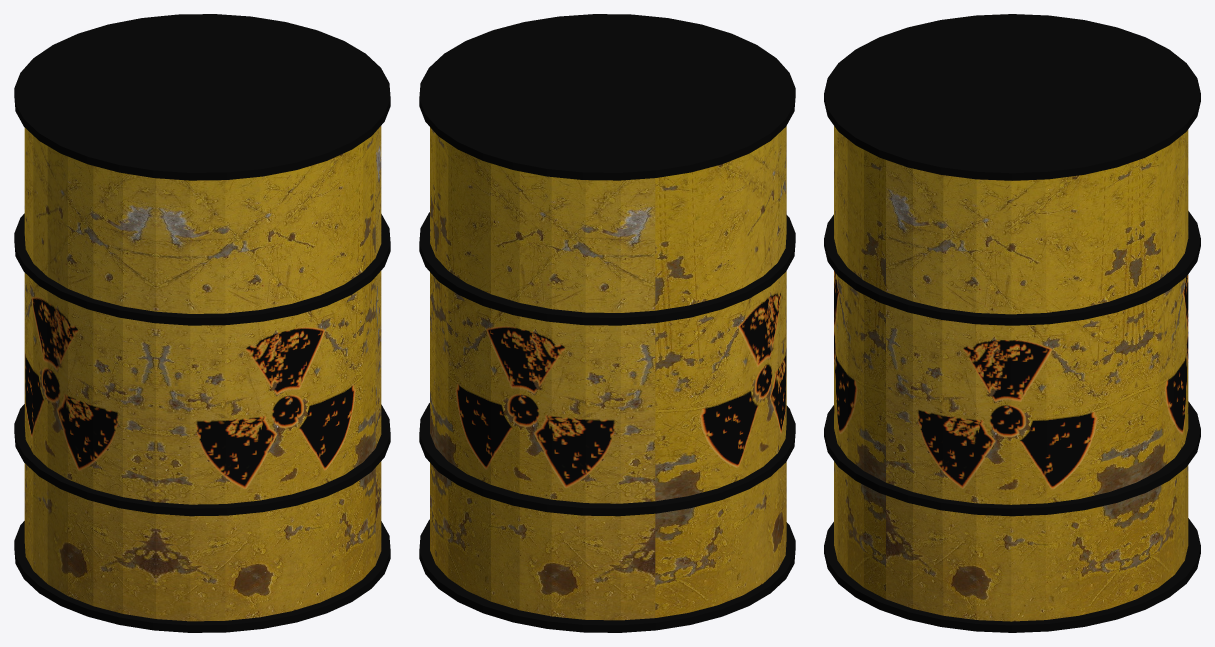
Rendered from Barrel.fbx.
3 views of the same model, side by side, from view 1: azimuth 30°, elevation 25°; view 2: azimuth 150°, elevation 25°; view 3: azimuth 270°, elevation 25° (orthographic).
Parts seen in each view (by area): view 1: Barrel; view 2: Barrel; view 3: Barrel.
Part boxes in pixels (x1=…): Barrel: x1=14, y1=14, x2=390, y2=632; Barrel: x1=419, y1=14, x2=795, y2=632; Barrel: x1=824, y1=14, x2=1200, y2=632.
Bounding box in the file's own units: 587 × 790 × 587.
Materials: 2 (1 with a texture image).
